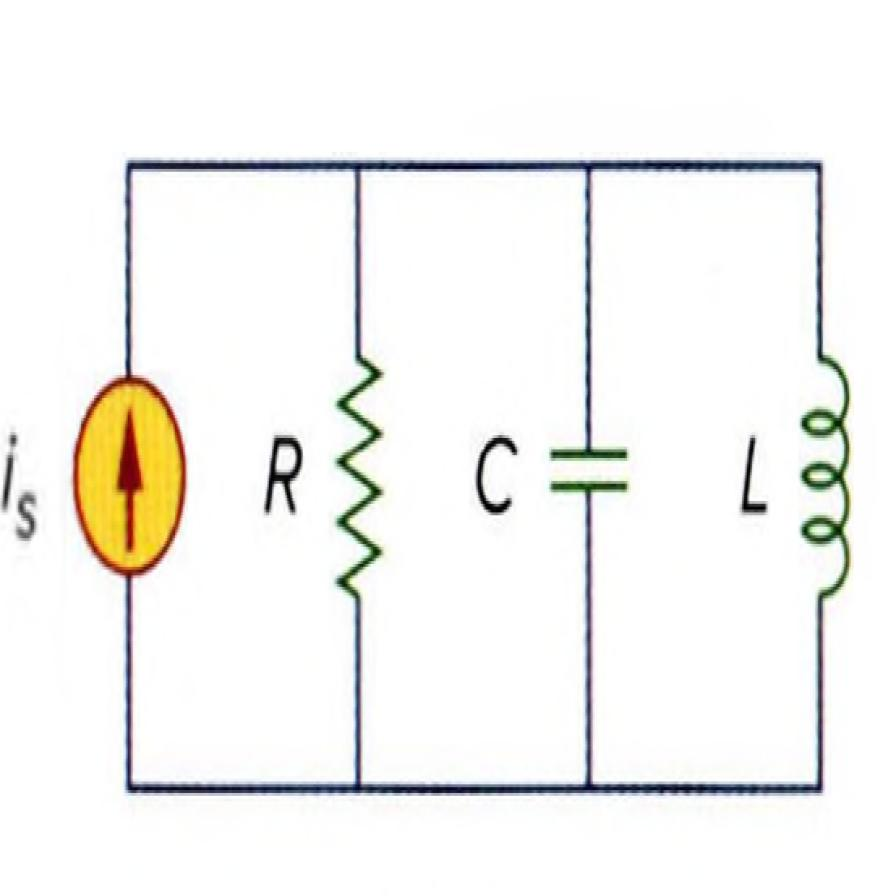C2: (537, 413, 638, 548)
I1: (52, 350, 192, 589)
L2: (780, 328, 860, 632)
R2: (314, 327, 394, 636)
